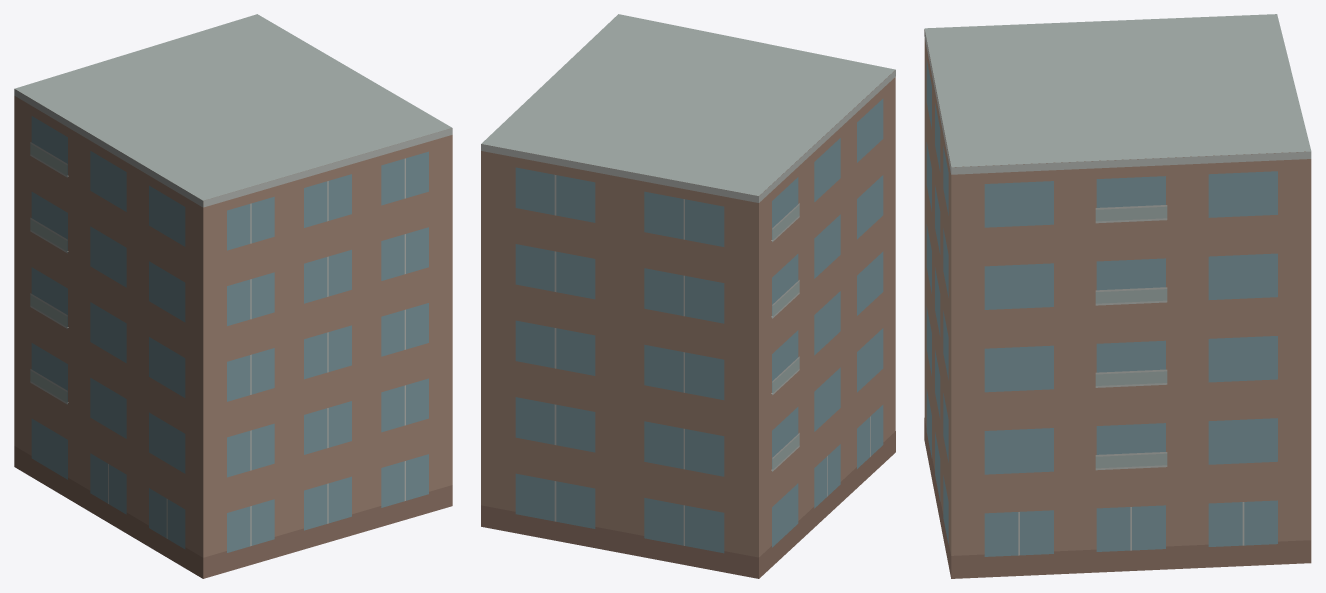
The model's file is survey-upis-32674502.glb.
3 renders of one model, left to right at view 1: azimuth 30°, elevation 25°; view 2: azimuth 150°, elevation 25°; view 3: azimuth 270°, elevation 25°, orthographic. The views are drawn at different scales.
Visible parts, largest first — view 1: survey-upis-32674502.tmp; view 2: survey-upis-32674502.tmp; view 3: survey-upis-32674502.tmp.
Boxes of the visible parts, left/top/right/bottom form: survey-upis-32674502.tmp: left=14, top=14, right=452, bottom=578; survey-upis-32674502.tmp: left=481, top=14, right=895, bottom=578; survey-upis-32674502.tmp: left=924, top=14, right=1311, bottom=578.
Bounding box in the file's own units: 10.71 × 13.4 × 11.43.
